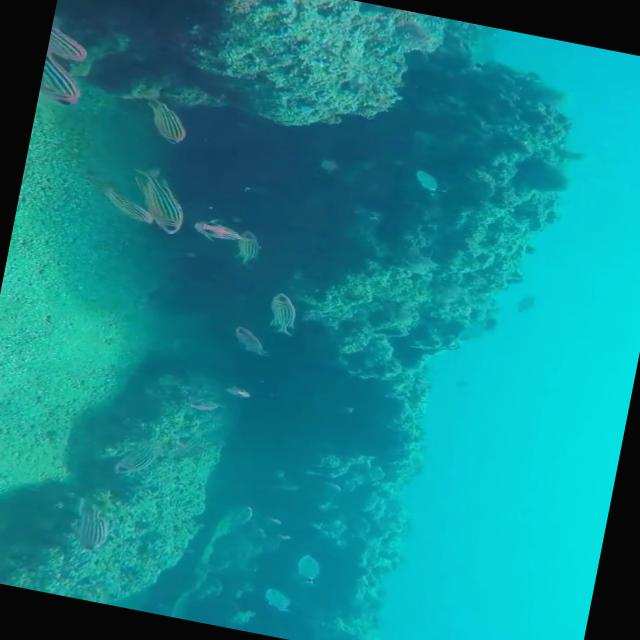Asker Baligi: (112, 168, 200, 242), (61, 496, 126, 566), (123, 98, 207, 150), (260, 292, 307, 342)
